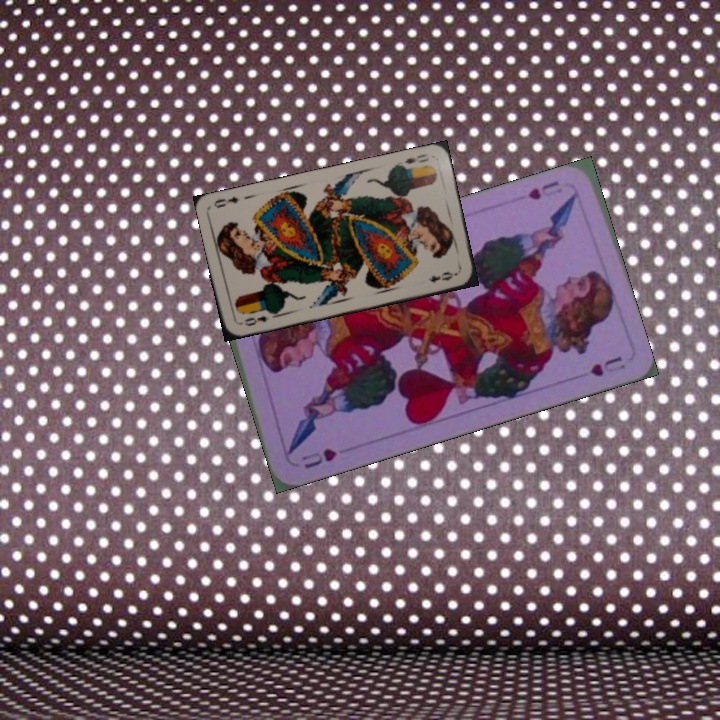EO: (236, 312, 272, 329), (401, 150, 431, 167)
HU: (298, 444, 339, 471), (524, 177, 562, 203)
